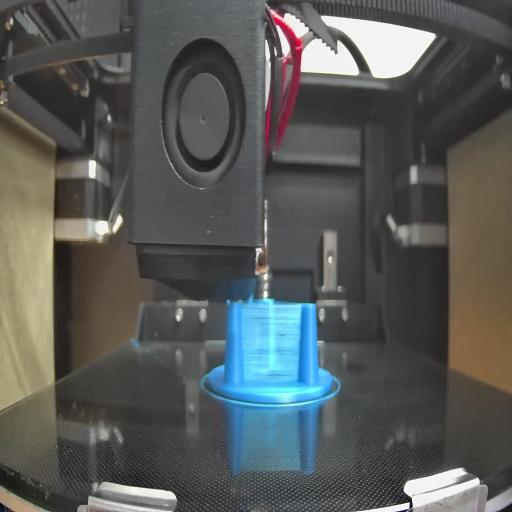stringing: (242, 306, 300, 383)
